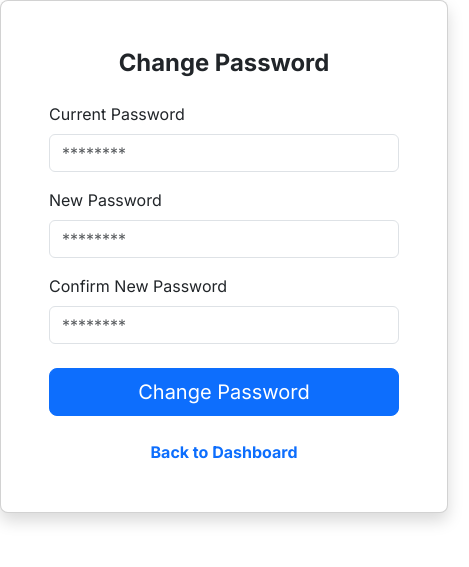
Test: ProfileSettings › shows validation error for empty current password
The width and height of the screenshot is (469, 567).
Type "newsecurepass" into the password field labelled "New Password" at (224, 239), box [49,220,399,258]
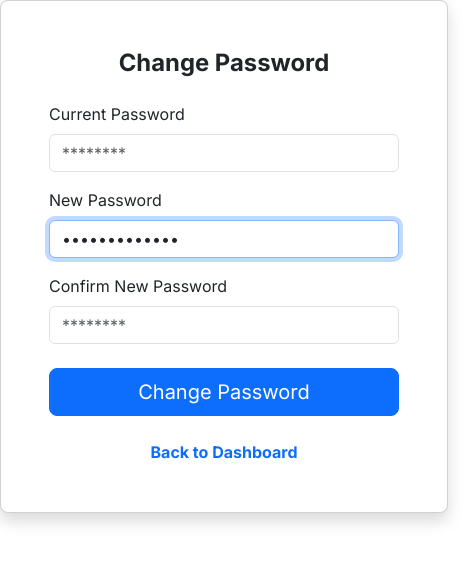
Type "newsecurepass" into the password field labelled "Confirm New Password" at (224, 325), box [49,306,399,344]
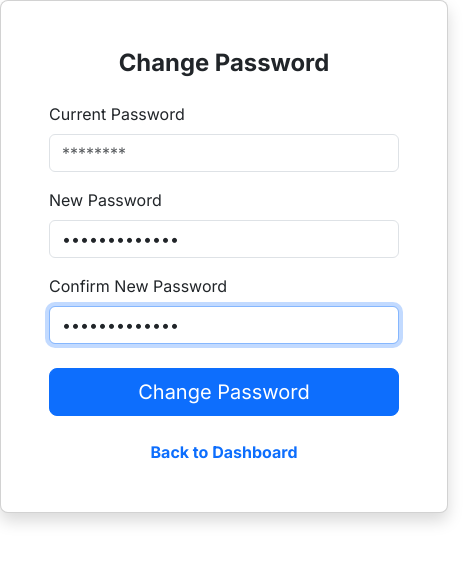
Click the button "Change Password" at (224, 392), box [49,368,399,416]
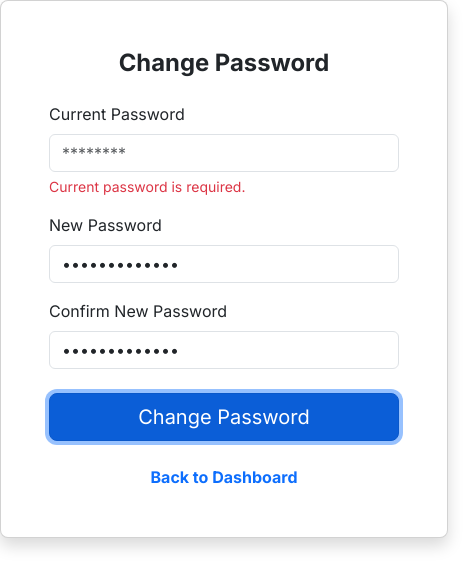
Now the text "Current password is required." is shown, box [49,178,246,195]
